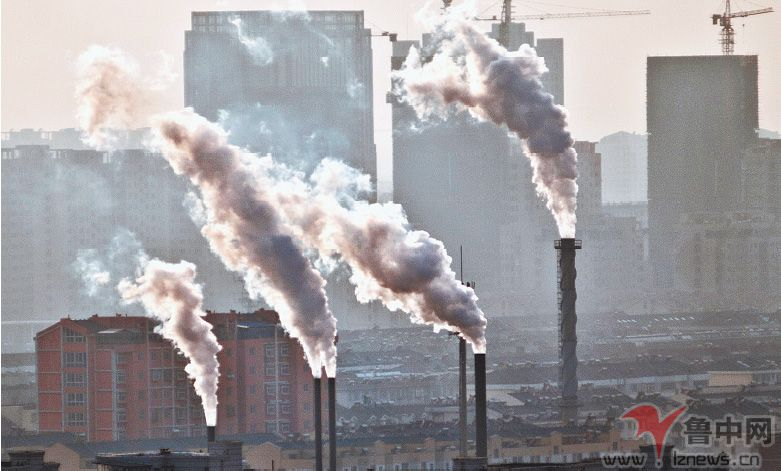dust: (437, 24, 609, 255), (200, 155, 350, 388), (321, 196, 497, 360), (126, 269, 234, 438)
